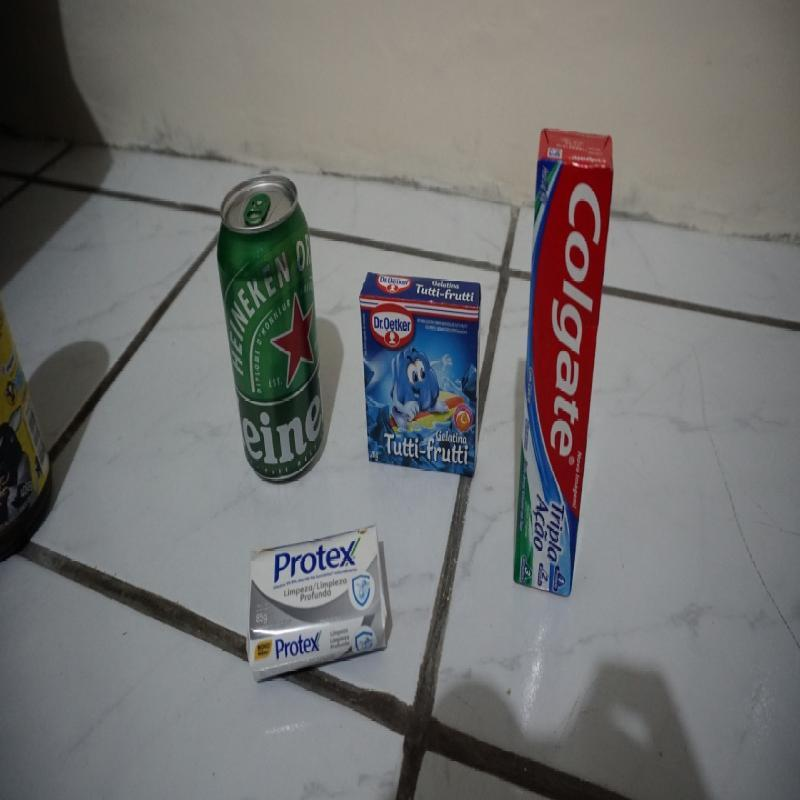Beer can: (216, 177, 326, 484)
Chocolate Powder: (0, 289, 52, 561)
Gelatine: (359, 270, 480, 476)
Soap: (246, 527, 389, 678)
Toothpaste: (513, 126, 614, 596)
